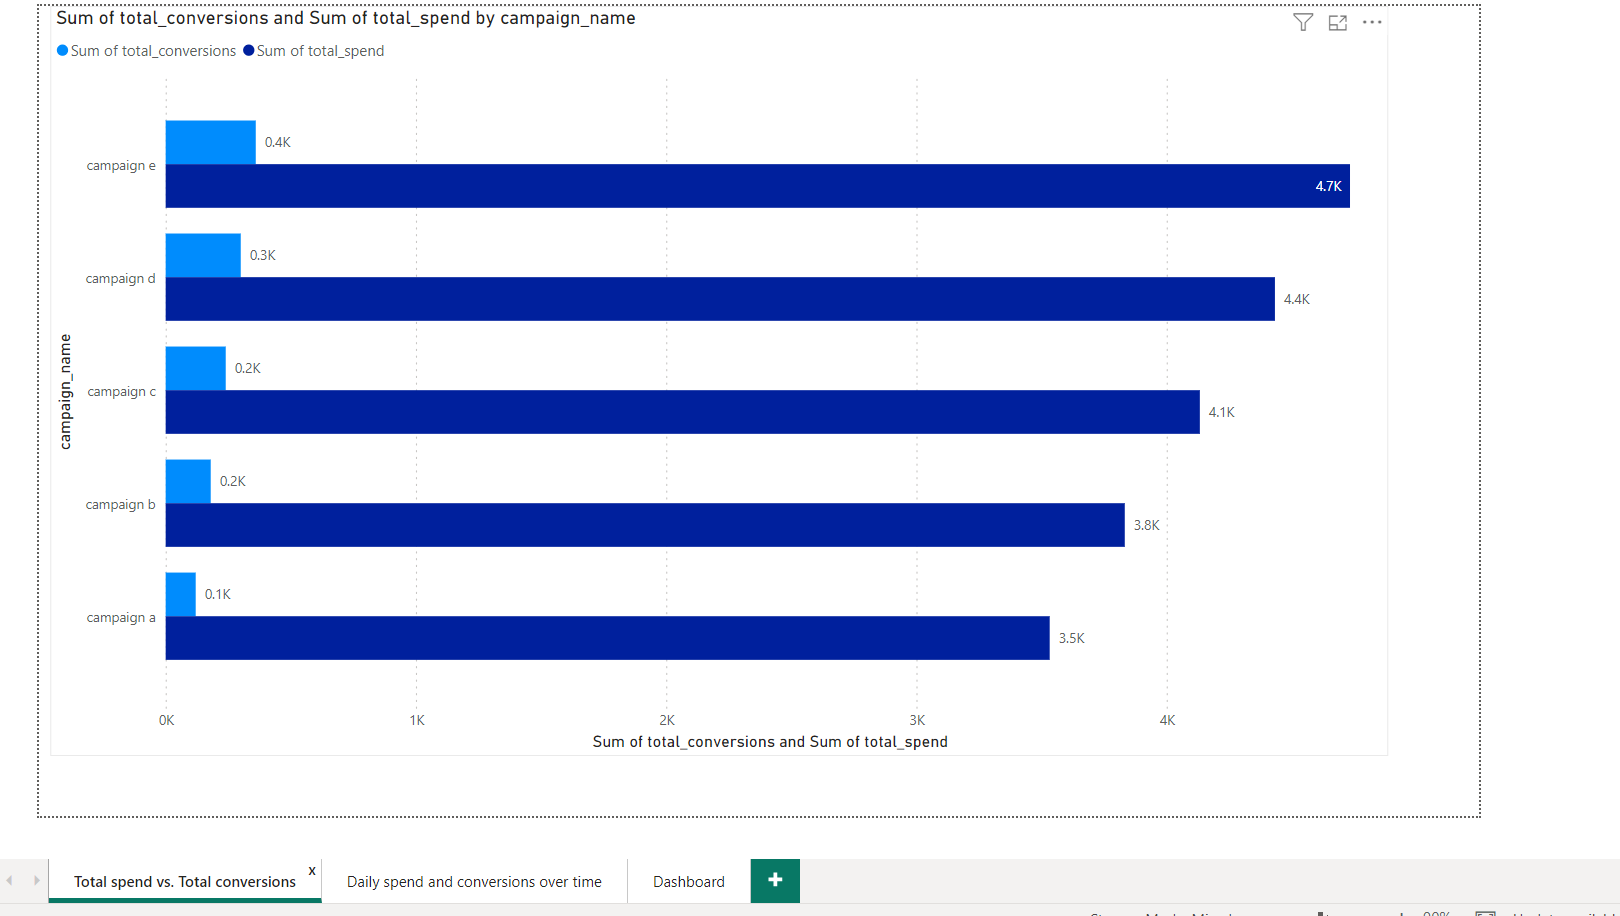

Layout of this report page (visuals, bound fields, positions):
{"tool":"powerbi","page":{"name":"Total spend vs. Total conversions","canvas":[1280,720],"ordinal":0},"visuals":[{"type":"clusteredBarChart","fields":{"Category":["Query2.campaign_name"],"Y":["Sum(Query2.total_conversions)","Sum(Query2.total_spend)"]},"box":[9.6,0,1189.7,666.9],"z":0}]}

Visuals, with their boxes on the page's 1280x720 design canvas (x1, y1, x2, y2). These are canvas units, not pixel positions in the 1620x916 screenshot, which may show the page scaled, cropped or inside an application window:
clusteredBarChart - Query2.campaign_name x Sum(Query2.total_conversions): 10 0 1199 667
